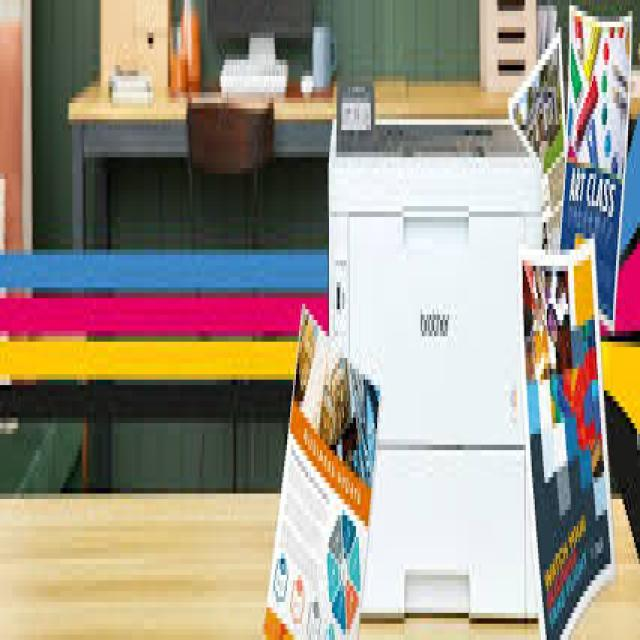printer: (326, 76, 547, 618)
